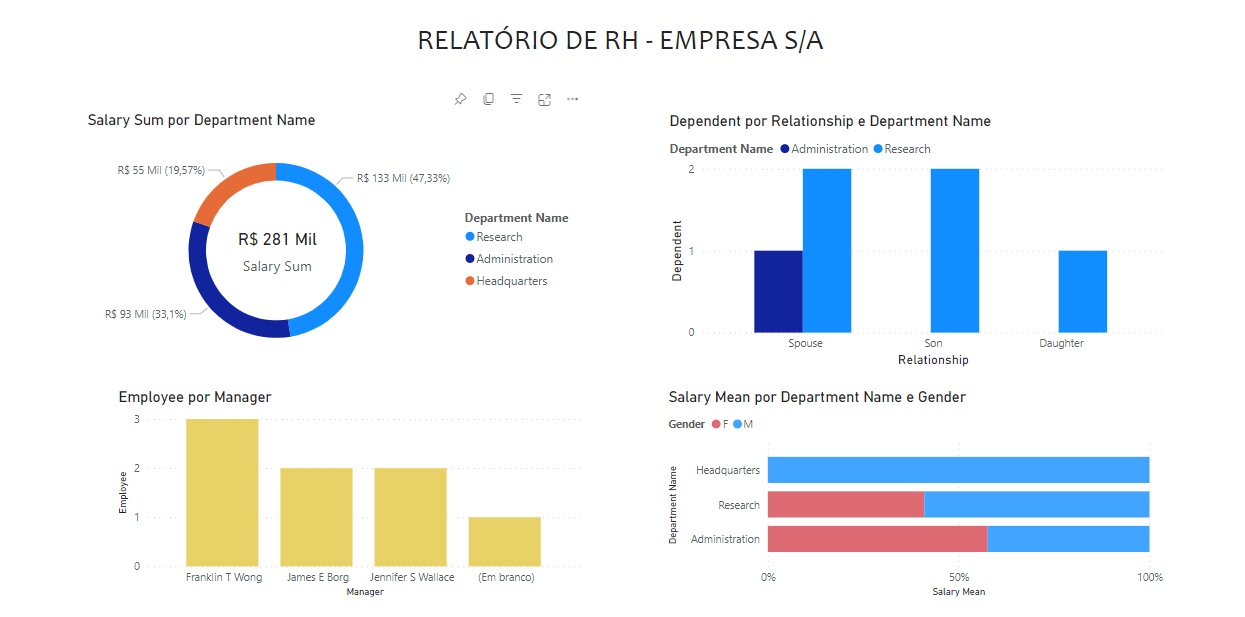

What the dashboard file says about the page in this screenshot:
{"tool":"powerbi","page":{"name":"Página 1","canvas":[1280,720],"ordinal":0},"visuals":[{"type":"textbox","box":[0,31.1,1280.4,80.4],"z":0},{"type":"donutChart","fields":{"Y":["azure_company employee.Salary"],"Category":["azure_company employee.Dname"]},"box":[35,136.2,566.9,293.2],"z":1000,"group":"g1"},{"type":"card","fields":{"Values":["azure_company employee.Salary"]},"box":[190.6,252.7,127.1,77.8],"z":1001,"group":"g1"},{"type":"group","id":"g1","title":"Grupo 1","box":[35,136.2,566.9,293.2],"z":1002},{"type":"clusteredColumnChart","fields":{"Category":["azure_company dependent.Relationship"],"Series":["azure_company dependent.RDname"],"Y":["azure_company dependent.Dependent_name"]},"box":[690.2,137.5,566.9,291.9],"z":1003},{"type":"clusteredColumnChart","fields":{"Y":["azure_company employee_per_super.EmpPerSuper"],"Category":["azure_company employee_per_super.SuperCname"]},"box":[70.1,448.9,531.9,240],"z":1004},{"type":"hundredPercentStackedBarChart","fields":{"Category":["azure_company employee.Dname"],"Series":["azure_company employee.Sex"],"Y":["azure_company employee.Salary"]},"box":[690,449,567,240],"z":1005}]}

Visuals, with their boxes on the page's 1280x720 design canvas (x1, y1, x2, y2). These are canvas units, not pixel positions in the 1245x617 screenshot, which may show the page scaled, cropped or inside an application window:
textbox: detection(0, 31, 1280, 112)
donutChart - azure_company employee.Salary x azure_company employee.Dname: detection(35, 136, 602, 429)
card - azure_company employee.Salary: detection(191, 253, 318, 330)
"Grupo 1" group: detection(35, 136, 602, 429)
clusteredColumnChart - azure_company dependent.Relationship x azure_company dependent.RDname: detection(690, 138, 1257, 429)
clusteredColumnChart - azure_company employee_per_super.EmpPerSuper x azure_company employee_per_super.SuperCname: detection(70, 449, 602, 689)
hundredPercentStackedBarChart - azure_company employee.Dname x azure_company employee.Sex: detection(690, 449, 1257, 689)
